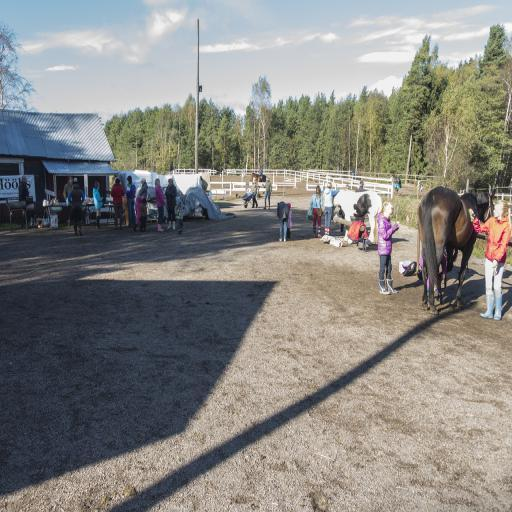horse: (416, 186, 496, 316), (332, 188, 382, 244), (250, 172, 267, 190), (387, 174, 402, 194)
